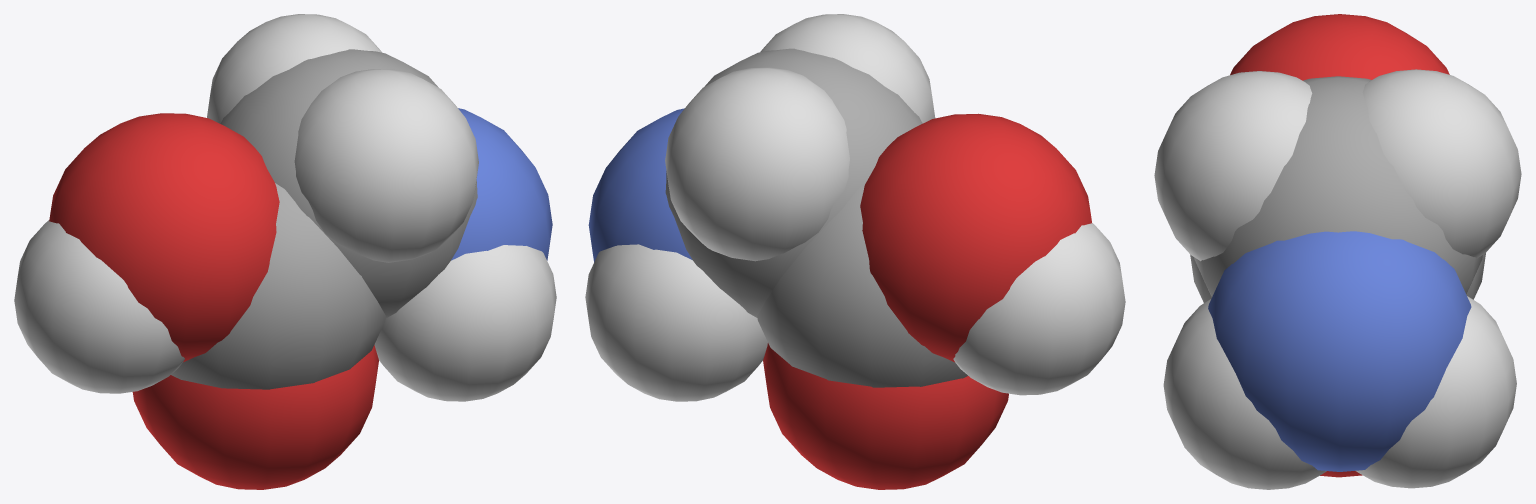
Rendered from glycine-cpk.glb.
3 views of the same model, side by side, from view 1: azimuth 30°, elevation 25°; view 2: azimuth 150°, elevation 25°; view 3: azimuth 270°, elevation 25° (orthographic). The views are drawn at different scales.
Parts seen in each view (by area): view 1: glycine-cpk; view 2: glycine-cpk; view 3: glycine-cpk.
Part boxes in pixels (left/top/right/bottom): glycine-cpk: left=14, top=14, right=556, bottom=489; glycine-cpk: left=585, top=14, right=1125, bottom=489; glycine-cpk: left=1154, top=14, right=1521, bottom=489.
Size of the model in its own units: 7.1 by 5.43 by 4.19.
